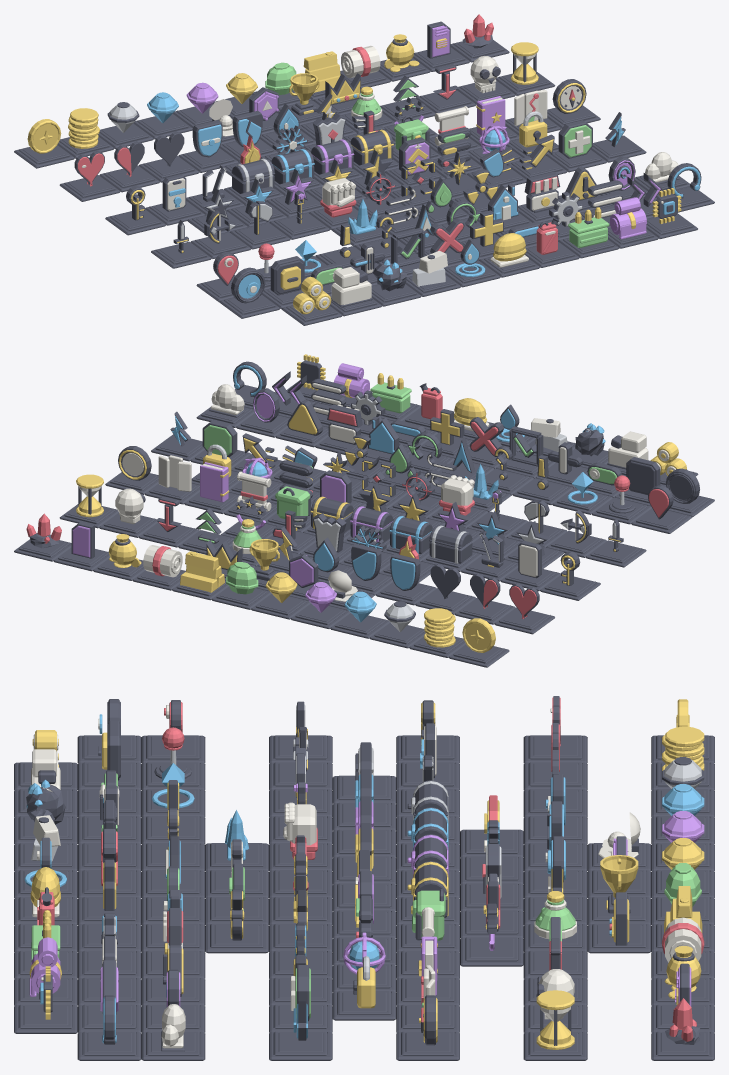
File: game-ui-icon-library-icon-board-0dda9b8b-starter-scene__19071.glb
The picture shows the model from 3 angles, top to bottom: view 1: azimuth 30°, elevation 25°; view 2: azimuth 150°, elevation 25°; view 3: azimuth 270°, elevation 25°; orthographic projection. The views are drawn at different scales.
Parts seen in each view (by area): view 1: 173-checkbox-tick/0, 199-food-loaf/0, 189-wood-log/0, 114-display-plinth-tile/0, 108-display-plinth-tile/0, 032-display-plinth-tile/0, 112-display-plinth-tile/0, 191-stone-block/0, 029-trophy-cup/2, 066-display-plinth-tile/0, 034-display-plinth-tile/0, 205-cloth-roll/2 (+51 smaller); view 2: 015-gold-bar-stack/0, 165-button-round/0, 117-fist-glyph/0, 173-checkbox-tick/0, 053-skull/0, 087-map-fold/0, 108-display-plinth-tile/0, 167-button-square/1, 032-display-plinth-tile/0, 085-book/0, 008-display-plinth-tile/0, 010-display-plinth-tile/0 (+57 smaller); view 3: 064-display-plinth-tile/0, 206-display-plinth-tile/0, 130-display-plinth-tile/0, 186-display-plinth-tile/0, 138-display-plinth-tile/0, 088-display-plinth-tile/0, 030-display-plinth-tile/0, 106-display-plinth-tile/0, 032-display-plinth-tile/0, 029-trophy-cup/2, 022-display-plinth-tile/0, 034-display-plinth-tile/0 (+109 smaller).
Part boxes in pixels (x1,y1,x2,y2): 173-checkbox-tick/0: [391, 228, 424, 267]; 199-food-loaf/0: [493, 233, 526, 261]; 189-wood-log/0: [293, 276, 331, 314]; 114-display-plinth-tile/0: [269, 212, 330, 239]; 108-display-plinth-tile/0: [151, 241, 211, 268]; 032-display-plinth-tile/0: [59, 175, 120, 201]; 112-display-plinth-tile/0: [230, 222, 290, 249]; 191-stone-block/0: [331, 280, 371, 304]; 029-trophy-cup/2: [289, 73, 319, 114]; 066-display-plinth-tile/0: [105, 209, 165, 235]; 034-display-plinth-tile/0: [99, 165, 159, 192]; 205-cloth-roll/2: [610, 197, 646, 237]; 015-gold-bar-stack/0: [180, 551, 224, 592]; 165-button-round/0: [665, 468, 699, 503]; 117-fist-glyph/0: [441, 475, 473, 505]; 173-checkbox-tick/0: [509, 426, 543, 466]; 053-skull/0: [115, 488, 143, 524]; 087-map-fold/0: [158, 455, 191, 491]; 108-display-plinth-tile/0: [585, 540, 646, 567]; 167-button-square/1: [627, 461, 655, 493]; 032-display-plinth-tile/0: [494, 607, 554, 634]; 085-book/0: [200, 462, 225, 501]; 008-display-plinth-tile/0: [290, 603, 350, 628]; 010-display-plinth-tile/0: [251, 594, 310, 619]; 064-display-plinth-tile/0: [460, 937, 523, 966]; 206-display-plinth-tile/0: [14, 1005, 77, 1033]; 130-display-plinth-tile/0: [269, 1031, 332, 1060]; 186-display-plinth-tile/0: [77, 1031, 141, 1060]; 138-display-plinth-tile/0: [205, 924, 268, 953]; 088-display-plinth-tile/0: [396, 1031, 459, 1060]; 030-display-plinth-tile/0: [587, 924, 651, 953]; 106-display-plinth-tile/0: [332, 991, 396, 1020]; 032-display-plinth-tile/0: [523, 735, 587, 763]; 029-trophy-cup/2: [600, 855, 638, 909]; 022-display-plinth-tile/0: [651, 1031, 714, 1060]; 034-display-plinth-tile/0: [523, 762, 587, 790].
Bounding box in the file's own units: 14.4 × 1.05 × 13.2.
